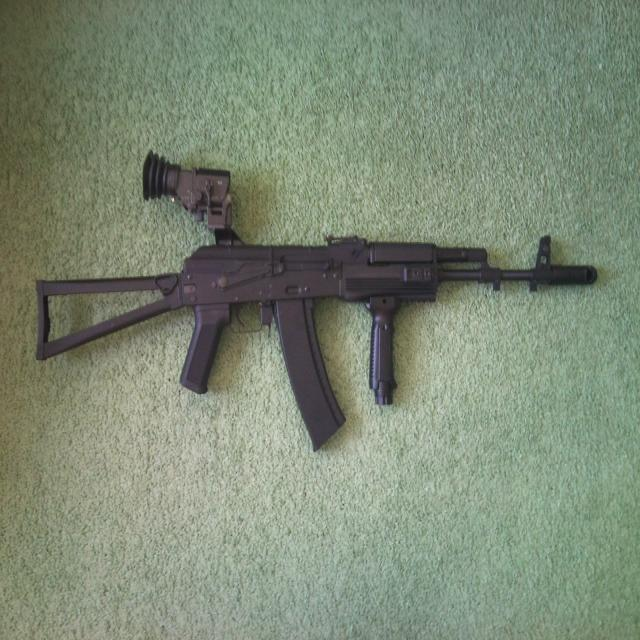firearm: (35, 150, 601, 452)
